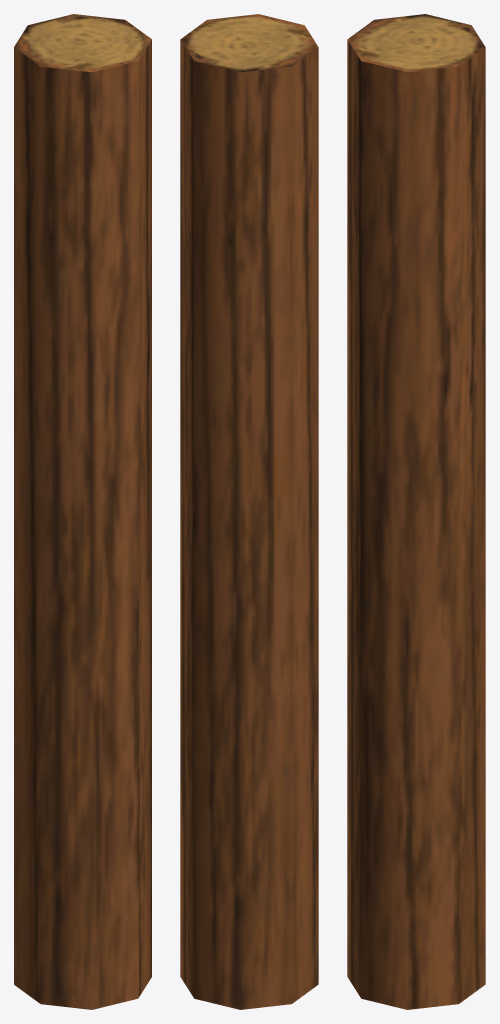
The picture shows the model from 3 angles, left to right: view 1: azimuth 30°, elevation 25°; view 2: azimuth 150°, elevation 25°; view 3: azimuth 330°, elevation 25°; orthographic projection.
Parts seen in each view (by area): view 1: Joint_0_Object_0; view 2: Joint_0_Object_0; view 3: Joint_0_Object_0.
Boxes of the visible parts, left/top/right/bottom form: Joint_0_Object_0: left=14, top=14, right=151, bottom=1009; Joint_0_Object_0: left=180, top=14, right=318, bottom=1009; Joint_0_Object_0: left=347, top=14, right=485, bottom=1009.
Bounding box in the file's own units: 129 × 1041 × 129.
1 material, 1 textured.
